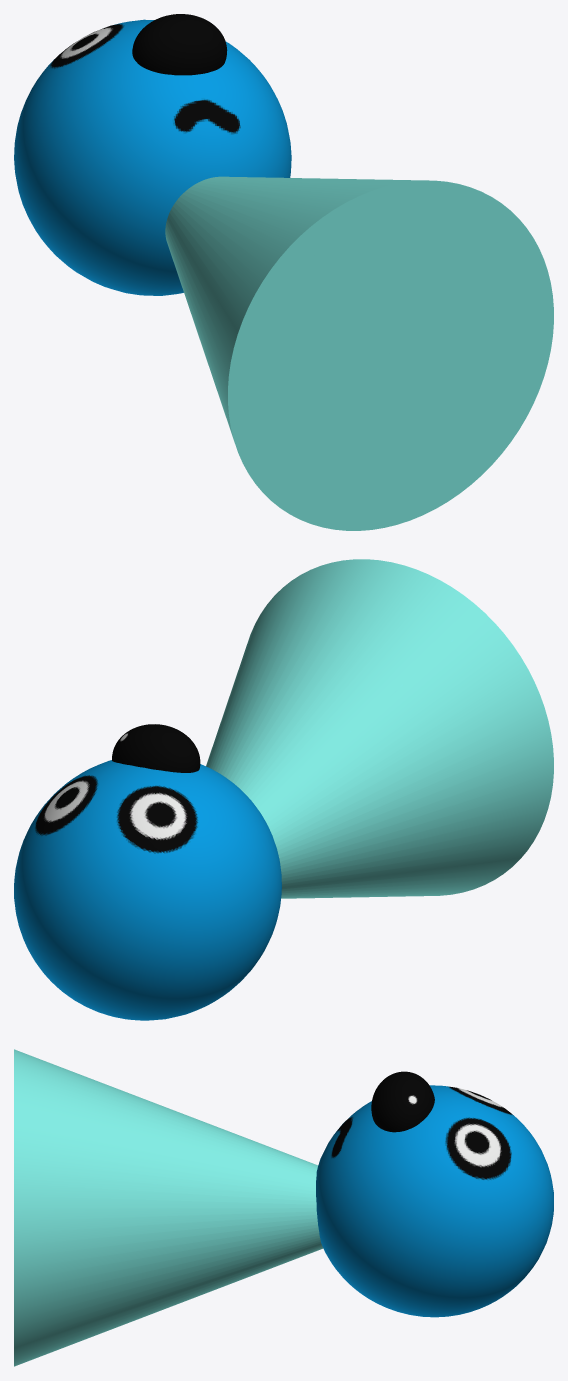
The model's file is boy.fbx.
3 views of the same model, one above another, from view 1: azimuth 30°, elevation 25°; view 2: azimuth 150°, elevation 25°; view 3: azimuth 270°, elevation 25° (orthographic). The views are drawn at different scales.
Parts seen in each view (by area): view 1: node_id2025 (×3); view 2: node_id2025 (×3); view 3: node_id2025 (×3).
Part boxes in pixels (bbox=[...]): node_id2025 (×3): bbox=[14, 14, 553, 530]; node_id2025 (×3): bbox=[14, 559, 553, 1020]; node_id2025 (×3): bbox=[14, 1049, 553, 1366].
Size of the model in its own units: 0.1439 by 0.1439 by 0.245.
3 materials, 3 textured.
